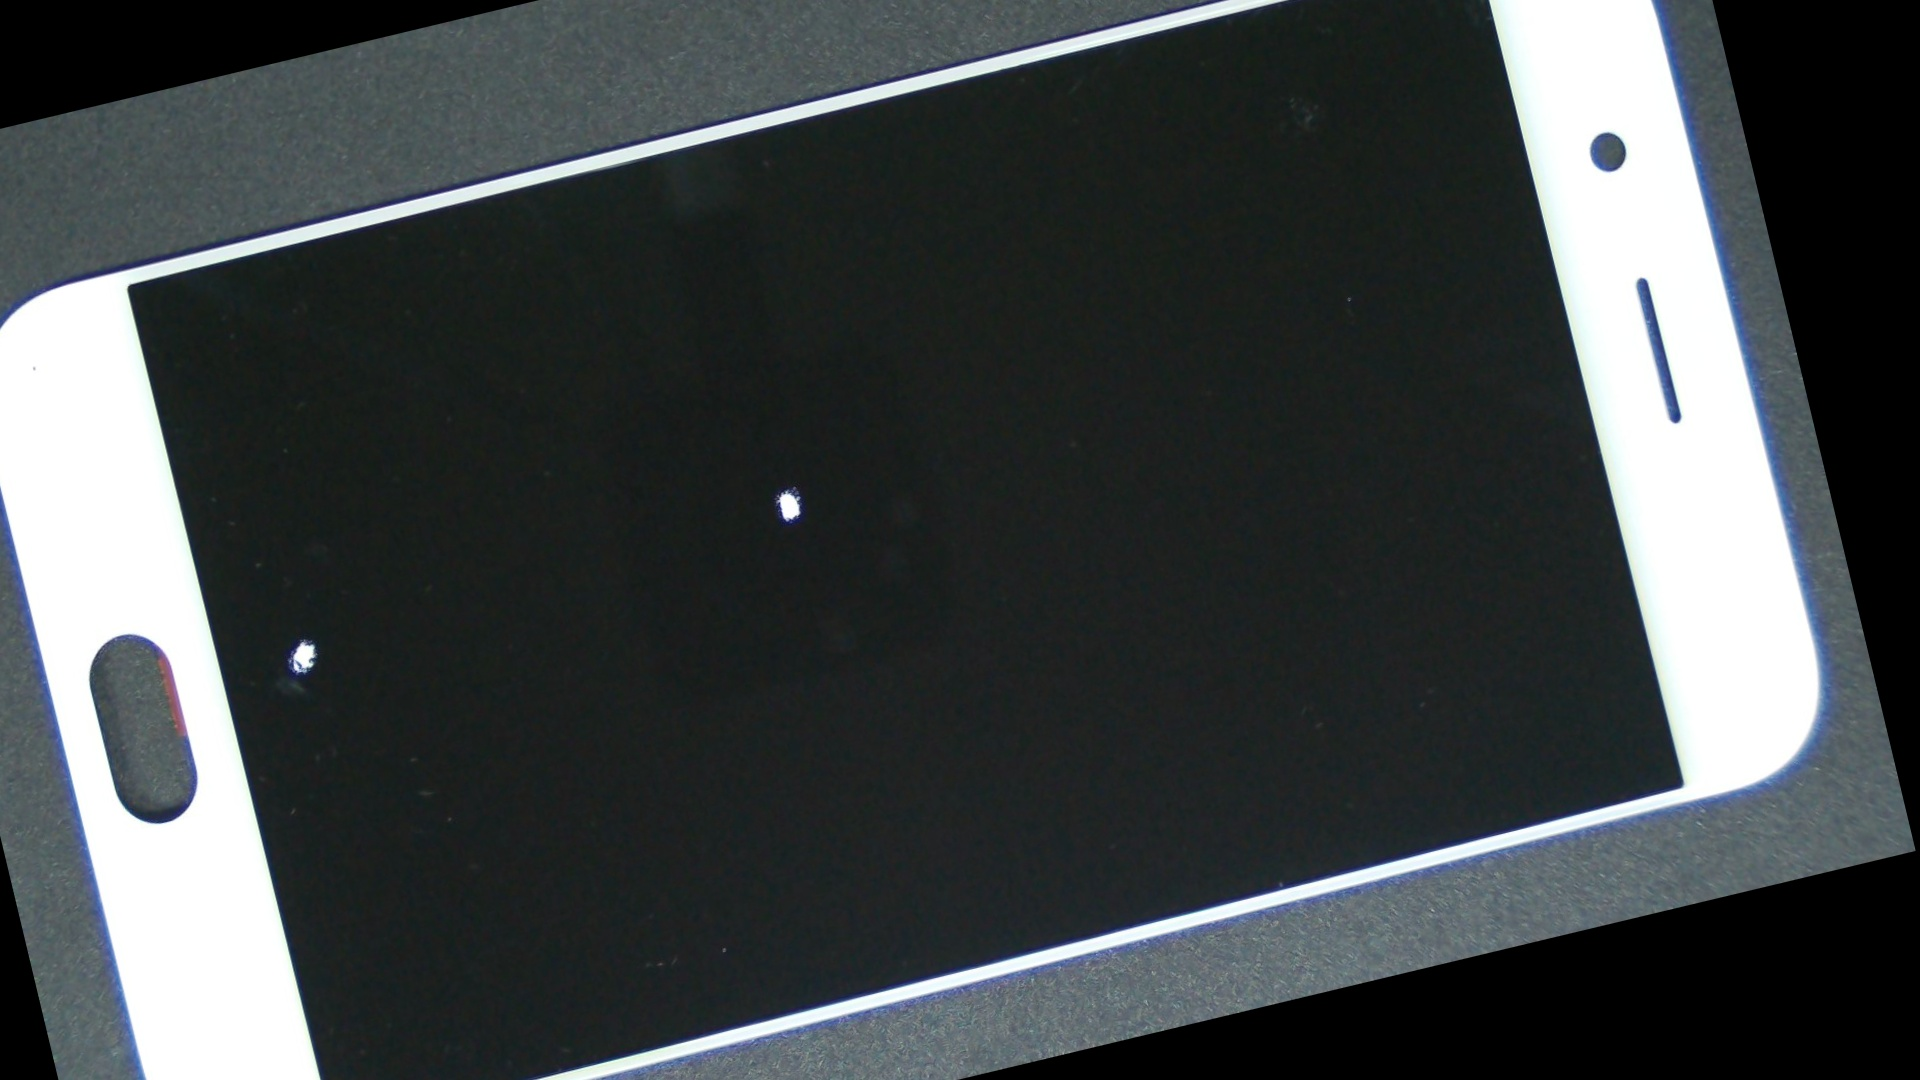oil: (311, 131, 1253, 843), (73, 322, 534, 951)
